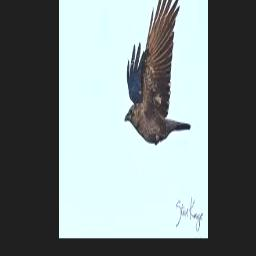Crow: (125, 0, 190, 144)
